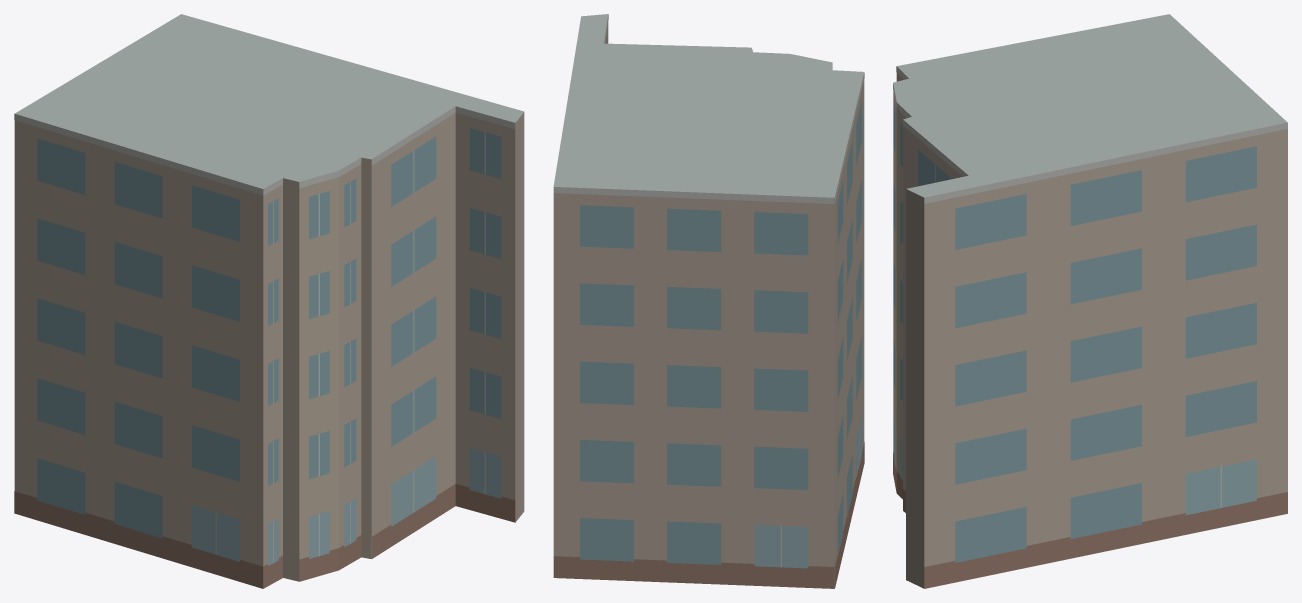
Rendered from survey-upis-32740822.glb.
The picture shows the model from 3 angles, left to right: view 1: azimuth 30°, elevation 25°; view 2: azimuth 150°, elevation 25°; view 3: azimuth 270°, elevation 25°; orthographic projection. The views are drawn at different scales.
Parts seen in each view (by area): view 1: survey-upis-32740822.tmp; view 2: survey-upis-32740822.tmp; view 3: survey-upis-32740822.tmp.
Part boxes in pixels (x1=…): survey-upis-32740822.tmp: x1=14, y1=14, x2=524, y2=588; survey-upis-32740822.tmp: x1=553, y1=14, x2=864, y2=588; survey-upis-32740822.tmp: x1=893, y1=14, x2=1287, y2=588.
Size of the model in its own units: 15.36 by 15.25 by 13.95.
